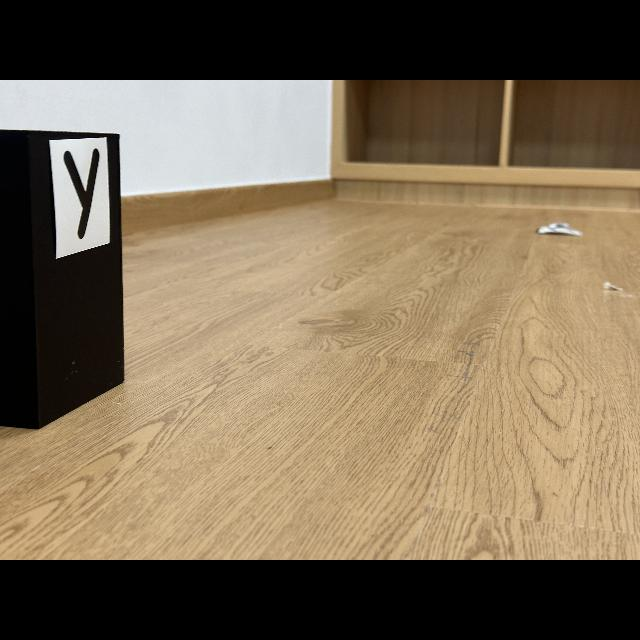Y: (64, 149, 100, 239)
